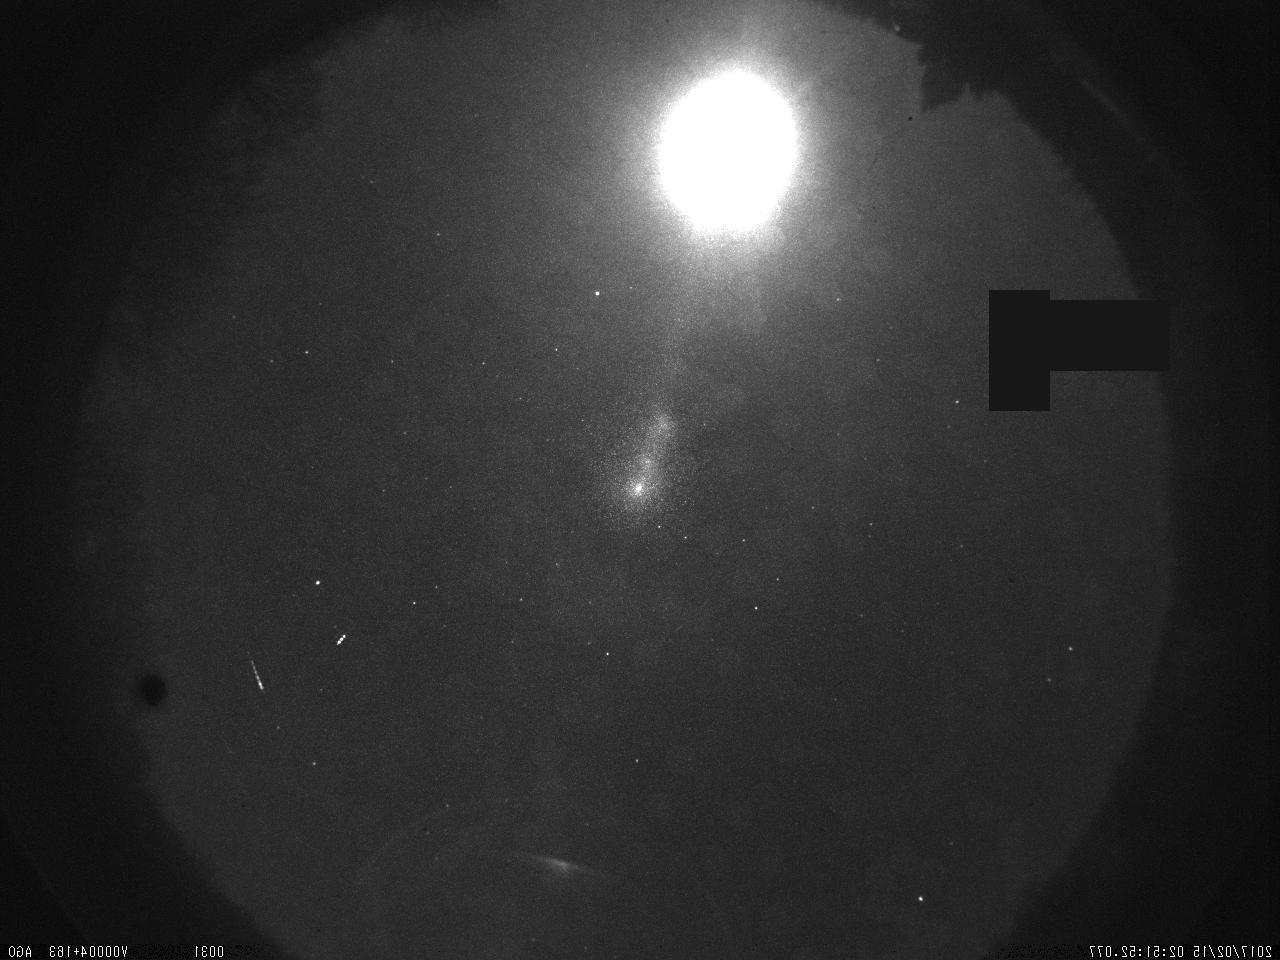meteor: (238, 638, 275, 709)
